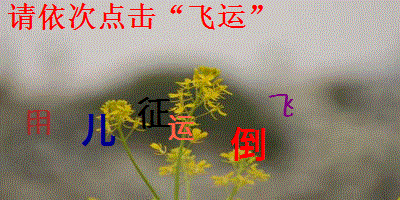text: (230, 126, 267, 163), (81, 112, 117, 149), (137, 95, 171, 130), (165, 112, 196, 141), (25, 108, 54, 137), (266, 91, 295, 118)
